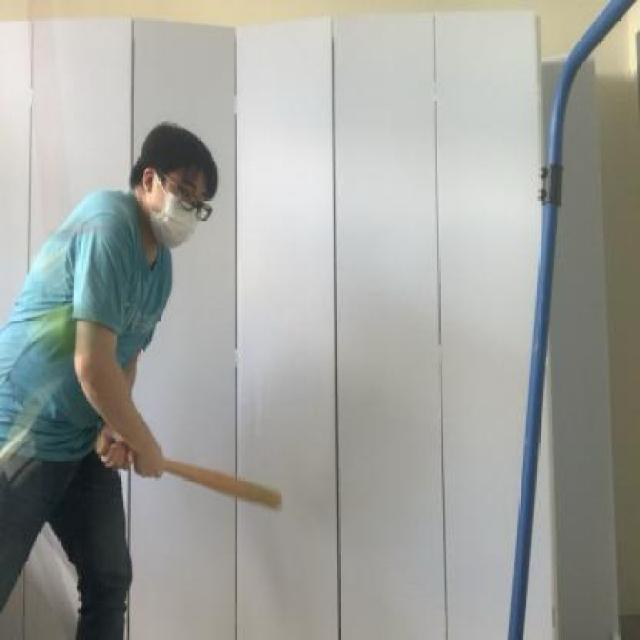baseball: (26, 297, 91, 365)
